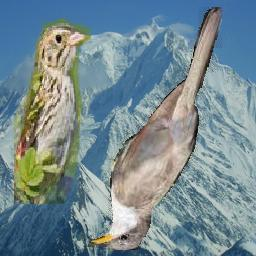Cuckoo: (84, 8, 222, 251)
Sparrow: (15, 16, 92, 205)
